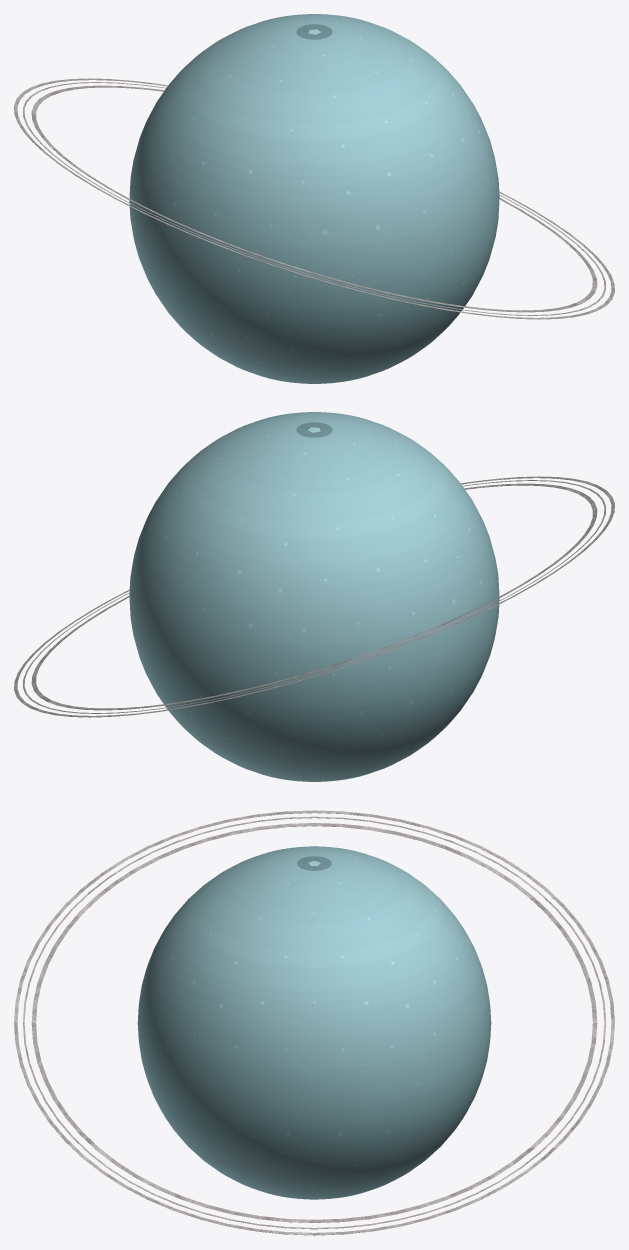
File: Uranus.glb
3 views of the same model, one above another, from view 1: azimuth 30°, elevation 25°; view 2: azimuth 150°, elevation 25°; view 3: azimuth 270°, elevation 25° (orthographic). The views are drawn at different scales.
Visible parts, largest first — view 1: Uranus, uranusring (2), uranusring, uranusring (1), Uranus_Lod; view 2: Uranus, uranusring (2), uranusring, uranusring (1), Uranus_Lod; view 3: Uranus, uranusring (2), uranusring, uranusring (1), Uranus_Lod.
Part boxes in pixels (x1,y1,x2,y2): Uranus: (129,14,499,383); uranusring (2): (31,85,597,312); uranusring: (14,78,614,319); uranusring (1): (23,82,605,315); Uranus_Lod: (133,14,498,383); Uranus: (129,412,499,781); uranusring (2): (31,483,597,710); uranusring: (14,476,614,717); uranusring (1): (23,480,605,713); Uranus_Lod: (130,412,495,781); Uranus: (137,846,491,1199); uranusring (2): (31,823,597,1222); uranusring: (14,810,614,1235); uranusring (1): (23,816,605,1229); Uranus_Lod: (145,849,483,1198).
Size of the model in its own units: 3.2 by 2 by 3.4.
Materials: 3 (3 with a texture image).
